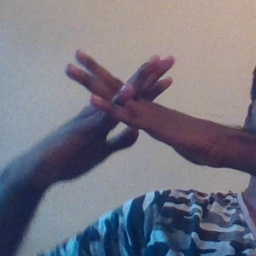W: (57, 41, 185, 161)
